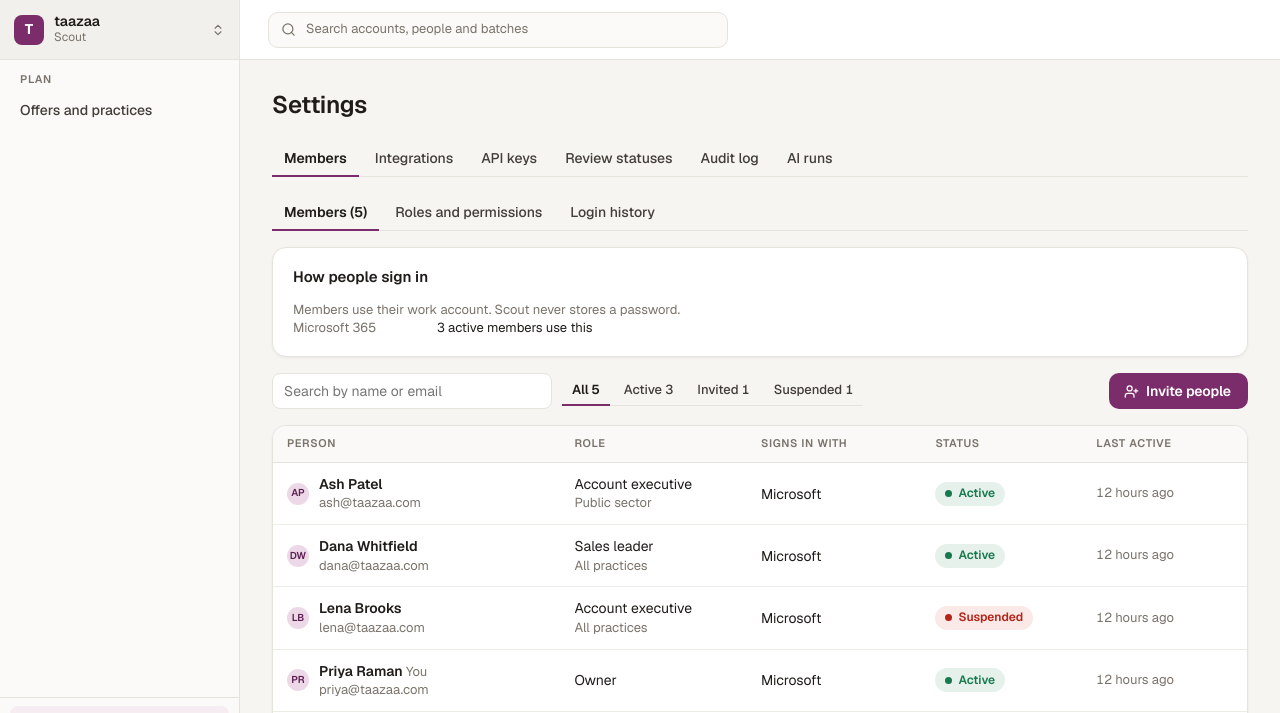
it: Members tab › filters by search and status, and keeps both in the URL
Click the tab "Suspended 1".
click(814, 391)  # box [764,376,863,406]
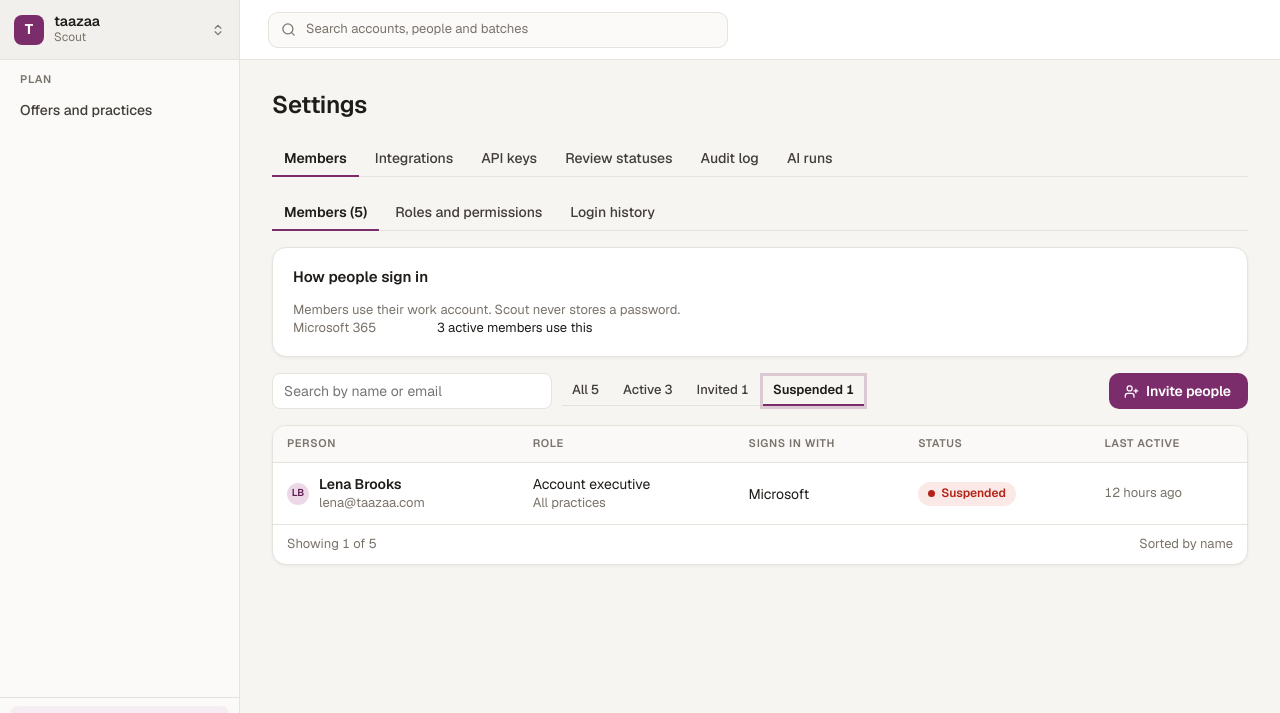
Expected: the button "Lena Brooks" is shown, [319,474,402,494]
Now the number of rows is 2, box [273,426,1247,463]; [273,463,1247,524]
Click the tab "All 5".
click(586, 391)  # box [562,376,609,406]
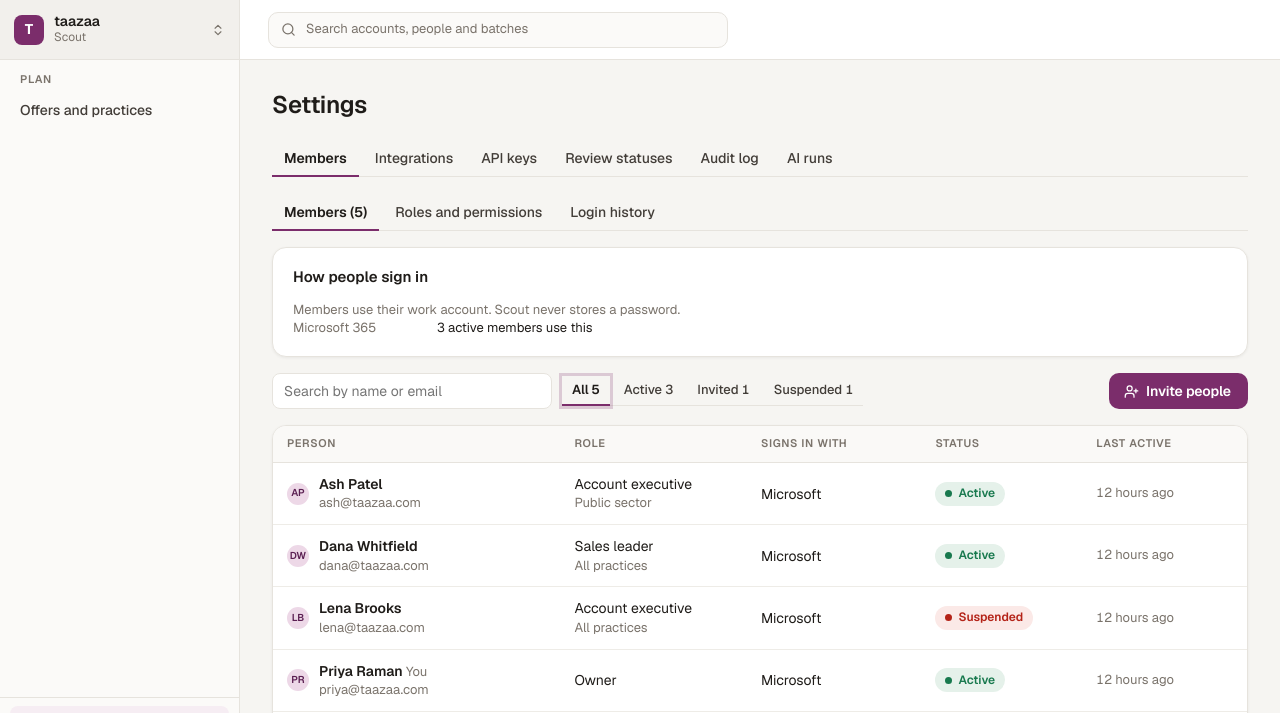
Type "nobody" into the search field labelled "Search by name or email".
click(412, 391); type("nobody")  # box [272,373,552,409]
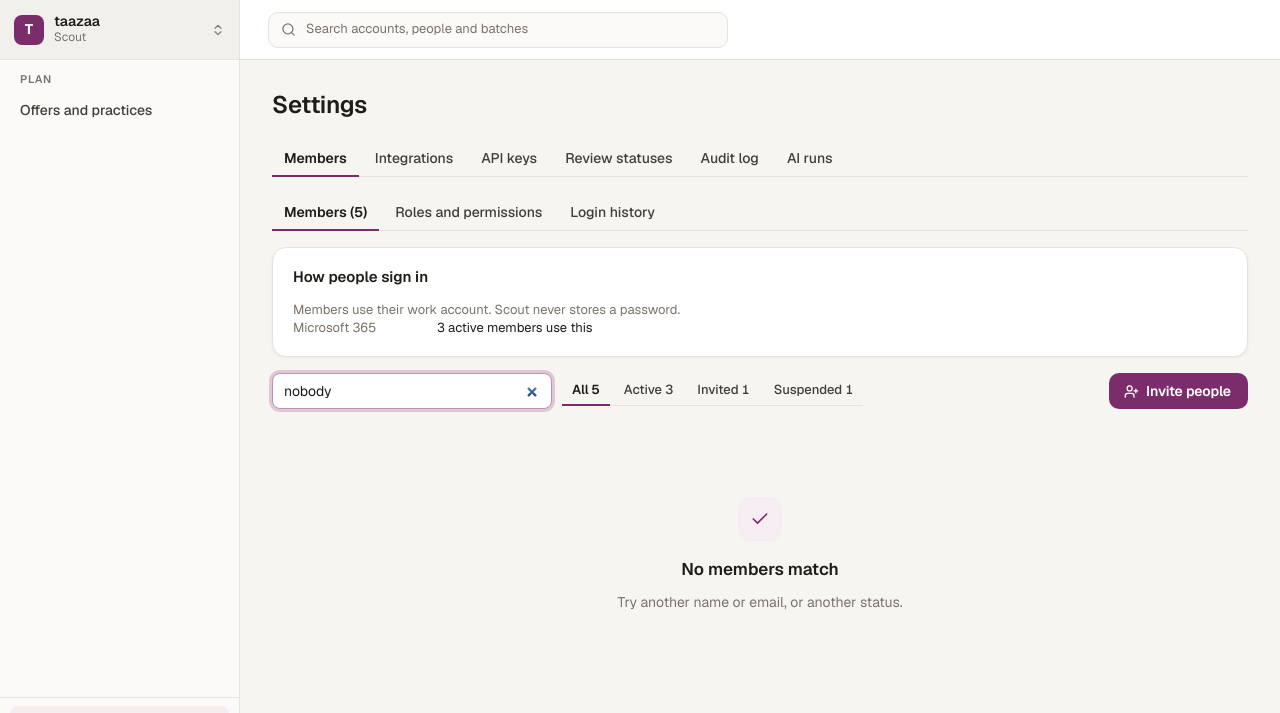
Now the heading "No members match" is shown, box [681,557,839,582]
